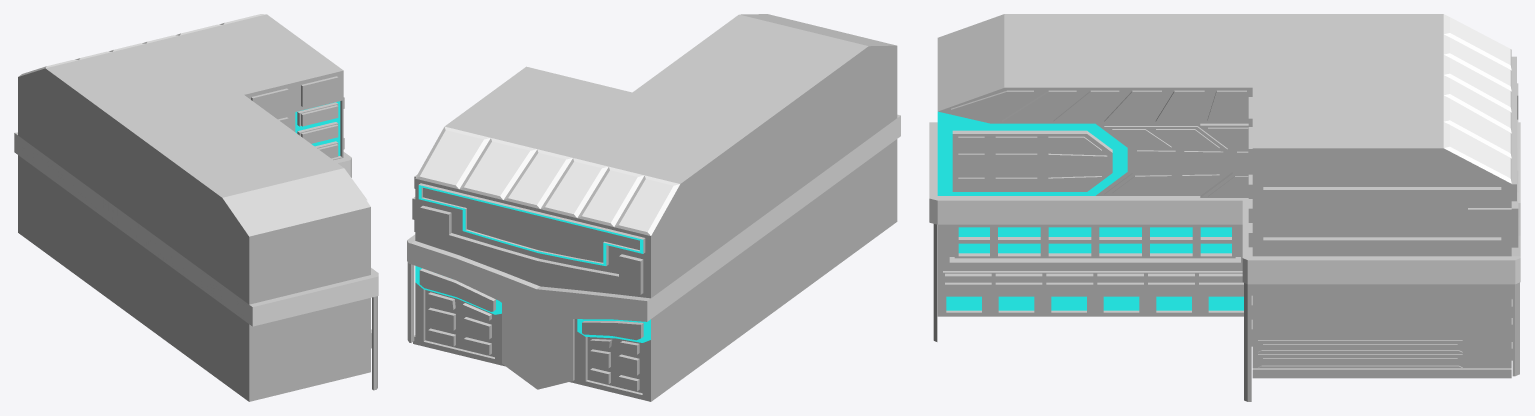
File: building-l2.glb
3 renders of one model, left to right at view 1: azimuth 30°, elevation 25°; view 2: azimuth 150°, elevation 25°; view 3: azimuth 270°, elevation 25°, orthographic. The views are drawn at different scales.
Visible parts, largest first — view 1: Cube.044; view 2: Cube.044; view 3: Cube.044.
Boxes of the visible parts, x1=… form: Cube.044: x1=14, y1=14, x2=378, y2=401; Cube.044: x1=407, y1=14, x2=900, y2=401; Cube.044: x1=929, y1=14, x2=1520, y2=401.
Bounding box in the file's own units: 23.06 × 19.52 × 41.78.
